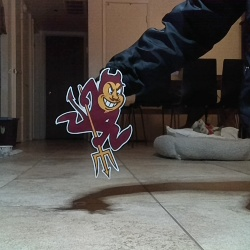sparky: (54, 67, 133, 179)
